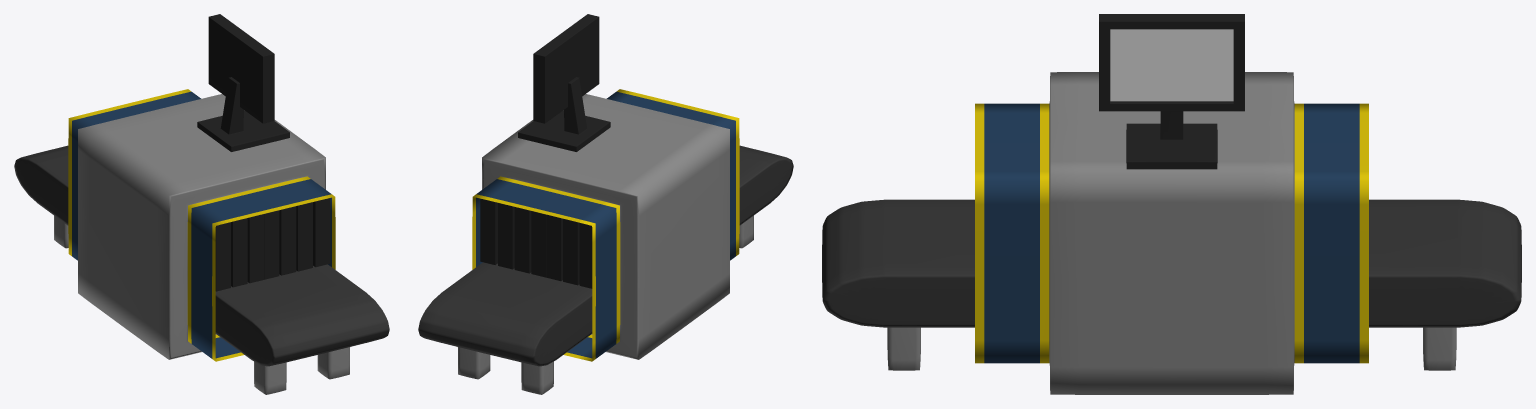
File: Model_BaggageScanner.fbx
3 renders of one model, left to right at view 1: azimuth 30°, elevation 25°; view 2: azimuth 150°, elevation 25°; view 3: azimuth 270°, elevation 25°, orthographic. The views are drawn at different scales.
Parts seen in each view (by area): view 1: pCube33; view 2: pCube33; view 3: pCube33.
Boxes of the visible parts, x1=… form: pCube33: x1=14, y1=14, x2=389, y2=394; pCube33: x1=418, y1=14, x2=793, y2=394; pCube33: x1=822, y1=14, x2=1521, y2=394.
Bounding box in the file's own units: 120 × 191 × 344.
